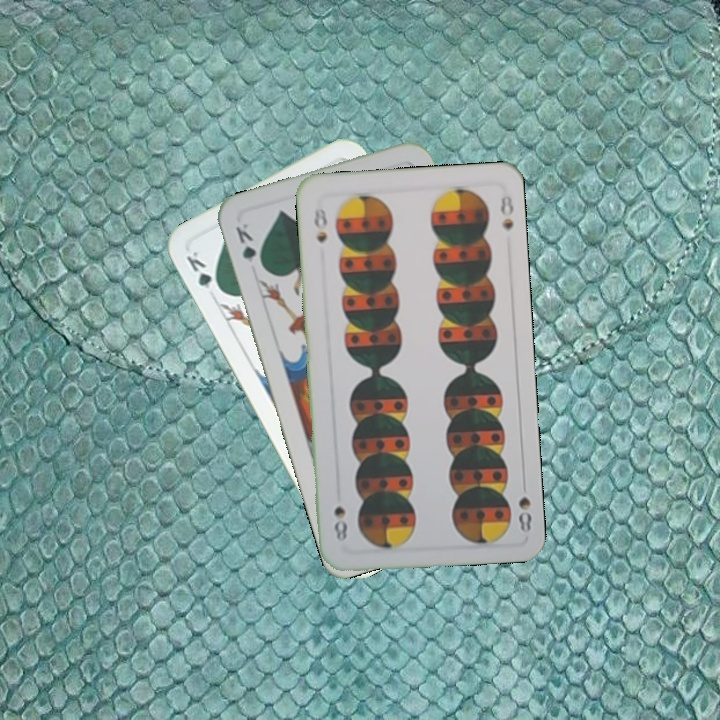GK: (182, 247, 225, 296), (231, 219, 266, 273)
S8: (514, 476, 535, 535), (310, 204, 330, 245)
